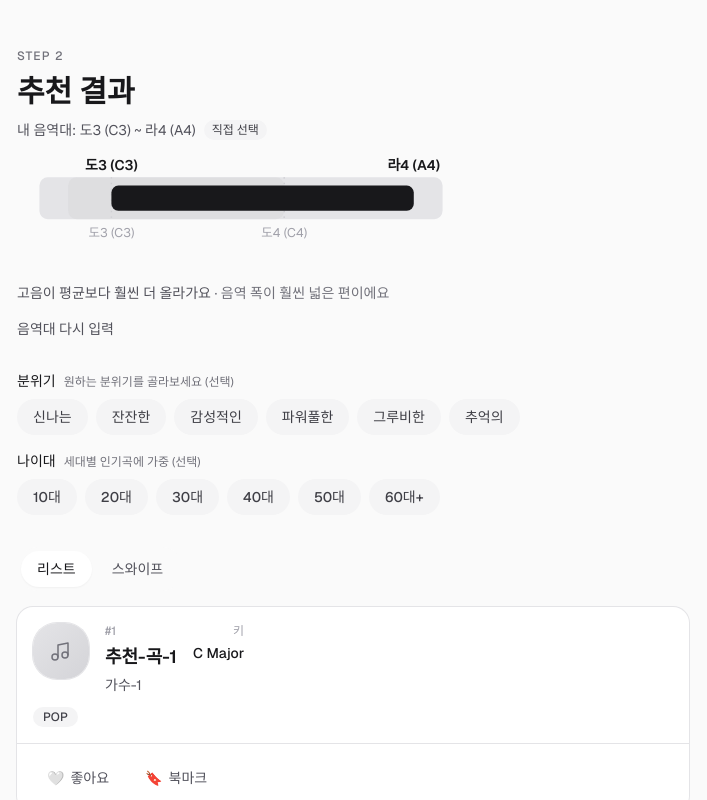
Test: /recommend 페이지 — Button UI reflect 통합 가드 (PR #993 후속) › 시나리오 B — 401 ApiError 시 alert 노출 › LikeButton: 401 ApiError → 좋아요 한국어 안내 alert + aria-live=assertive
Click the button with aria-label "추천-곡-1 좋아요" at coordinates (78, 778), box [33,756,123,799]
(page scrolled)
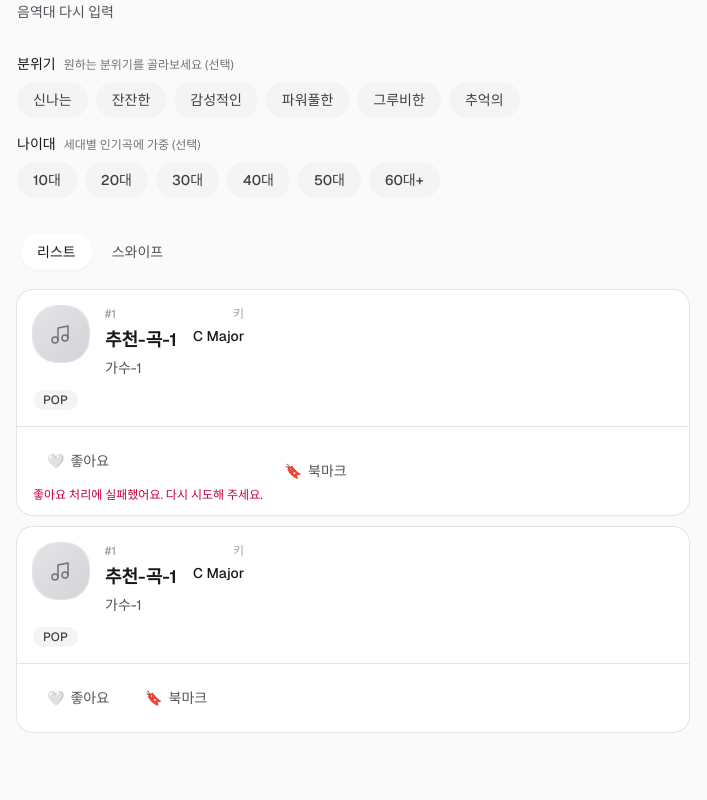
expect the message shows "좋아요 처리에 실패했어요": met, box [33,487,263,503]
